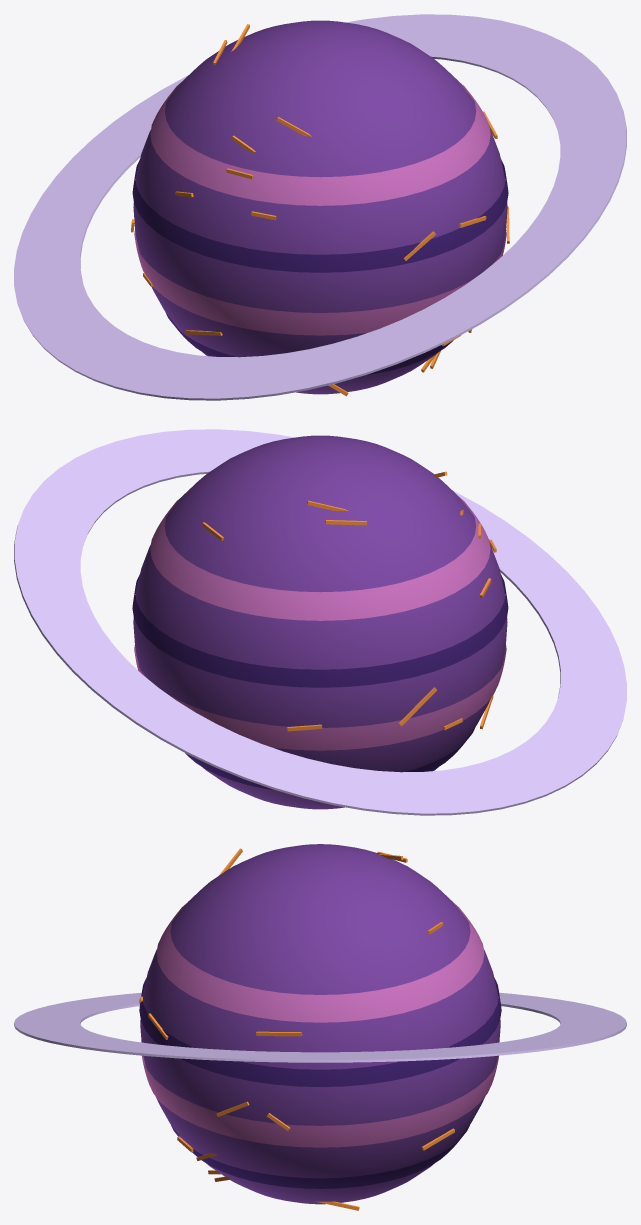
File: FinalePlanet.fbx
3 views of the same model, one above another, from view 1: azimuth 30°, elevation 25°; view 2: azimuth 150°, elevation 25°; view 3: azimuth 270°, elevation 25° (orthographic). The views are drawn at different scales.
Parts seen in each view (by area): view 1: FinalePlanet; view 2: FinalePlanet; view 3: FinalePlanet.
Boxes of the visible parts, left/top/right/bottom form: FinalePlanet: left=14, top=14, right=626, bottom=400; FinalePlanet: left=14, top=429, right=626, bottom=815; FinalePlanet: left=14, top=844, right=626, bottom=1210.
Size of the model in its own units: 19426 by 12000 by 20400.
